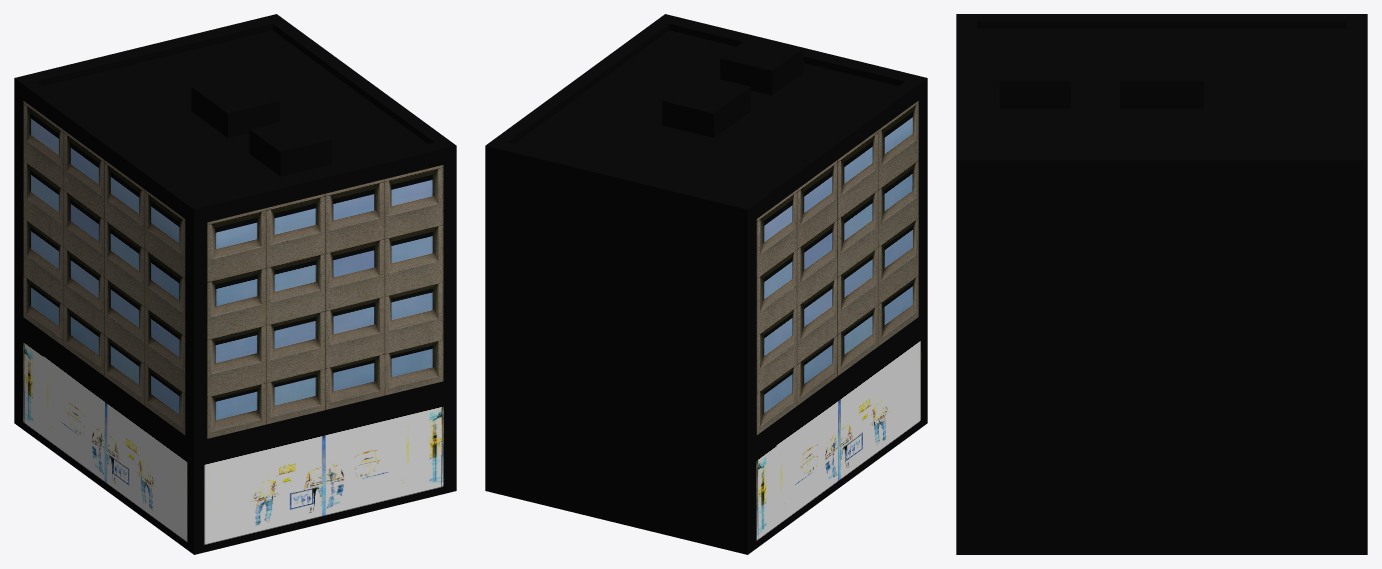
File: house26.FBX
3 views of the same model, side by side, from view 1: azimuth 30°, elevation 25°; view 2: azimuth 150°, elevation 25°; view 3: azimuth 270°, elevation 25° (orthographic). The views are drawn at different scales.
Visible parts, largest first — view 1: Box001; view 2: Box001; view 3: Box001.
Boxes of the visible parts, x1,y1,x2,y2 form: Box001: (14,14,456,554); Box001: (485,14,927,554); Box001: (956,14,1367,554).
Size of the model in its own units: 80 by 106 by 95.
